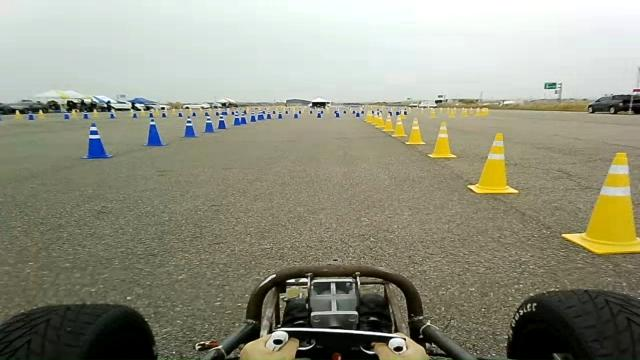blue cone: (80, 122, 114, 159), (142, 118, 166, 146), (180, 116, 198, 138), (203, 114, 214, 132), (217, 112, 227, 129), (239, 111, 250, 124), (232, 110, 240, 125), (82, 108, 91, 119), (63, 107, 71, 119), (28, 107, 35, 120), (250, 110, 256, 123), (132, 105, 138, 118), (109, 108, 115, 118)
yellow cone: (561, 152, 639, 254), (466, 132, 519, 194), (426, 121, 456, 158), (405, 117, 425, 144), (391, 114, 407, 137), (381, 113, 396, 132), (373, 113, 385, 128), (364, 111, 374, 123), (14, 109, 22, 119), (37, 109, 45, 119)
